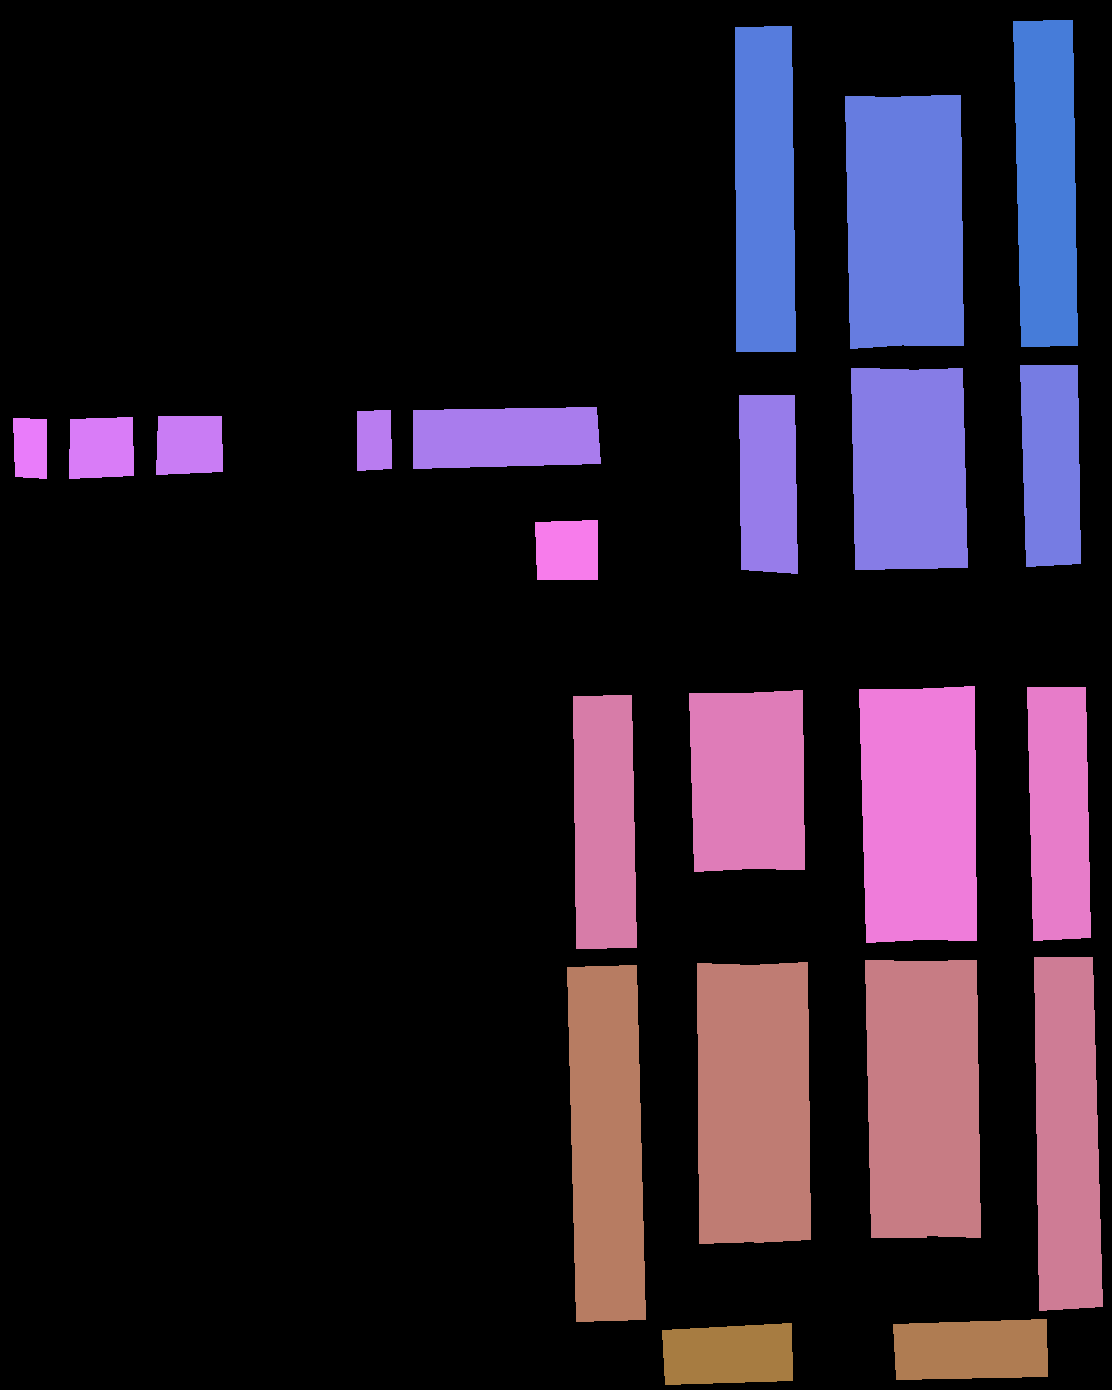parkingspot: (567, 964, 645, 1321), (1034, 957, 1102, 1309), (1013, 20, 1077, 346), (735, 26, 795, 351), (918, 960, 980, 1237), (697, 963, 758, 1242), (865, 960, 926, 1237), (750, 962, 810, 1242), (1027, 686, 1090, 940), (912, 686, 976, 940), (859, 689, 923, 942), (573, 694, 637, 947), (845, 96, 909, 348), (901, 95, 963, 345), (904, 368, 967, 568), (851, 368, 913, 568), (1020, 365, 1080, 566), (413, 407, 600, 467), (689, 693, 751, 871), (744, 690, 804, 869), (739, 395, 797, 573), (893, 1319, 1047, 1379), (662, 1323, 792, 1384), (155, 416, 222, 474), (69, 418, 133, 478), (534, 520, 597, 579), (357, 410, 391, 470), (12, 418, 47, 478)
